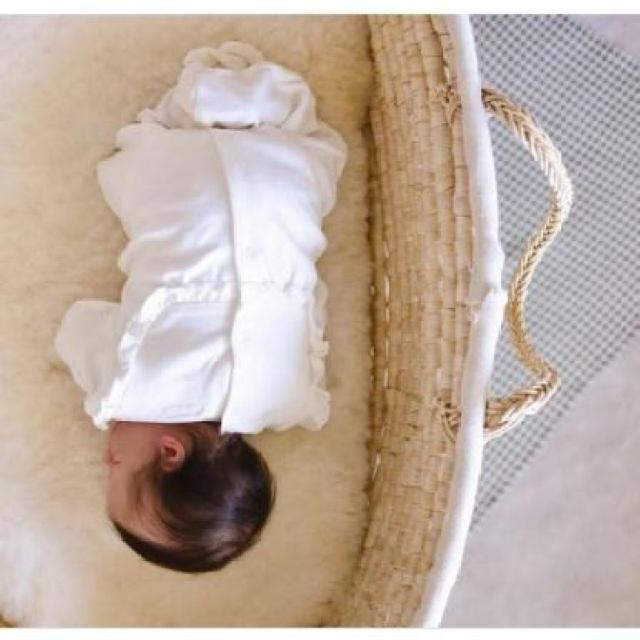baby: (53, 47, 350, 576)
